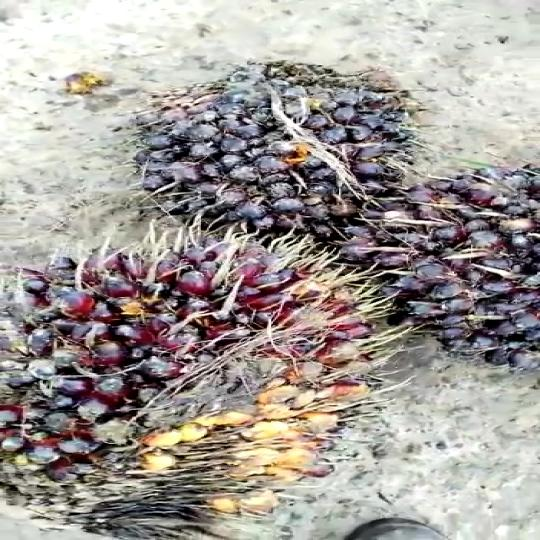kurang masak: (0, 230, 396, 540), (130, 53, 420, 234), (342, 159, 540, 374)
